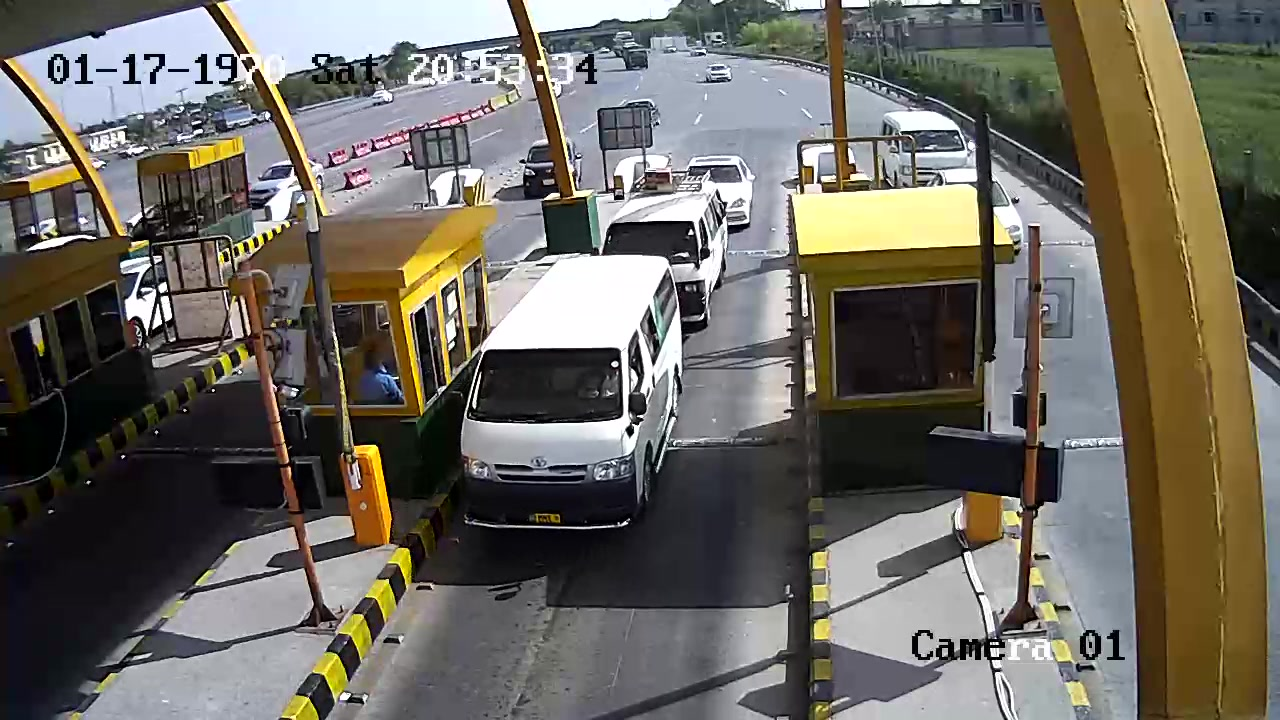F2: (453, 241, 687, 545)
